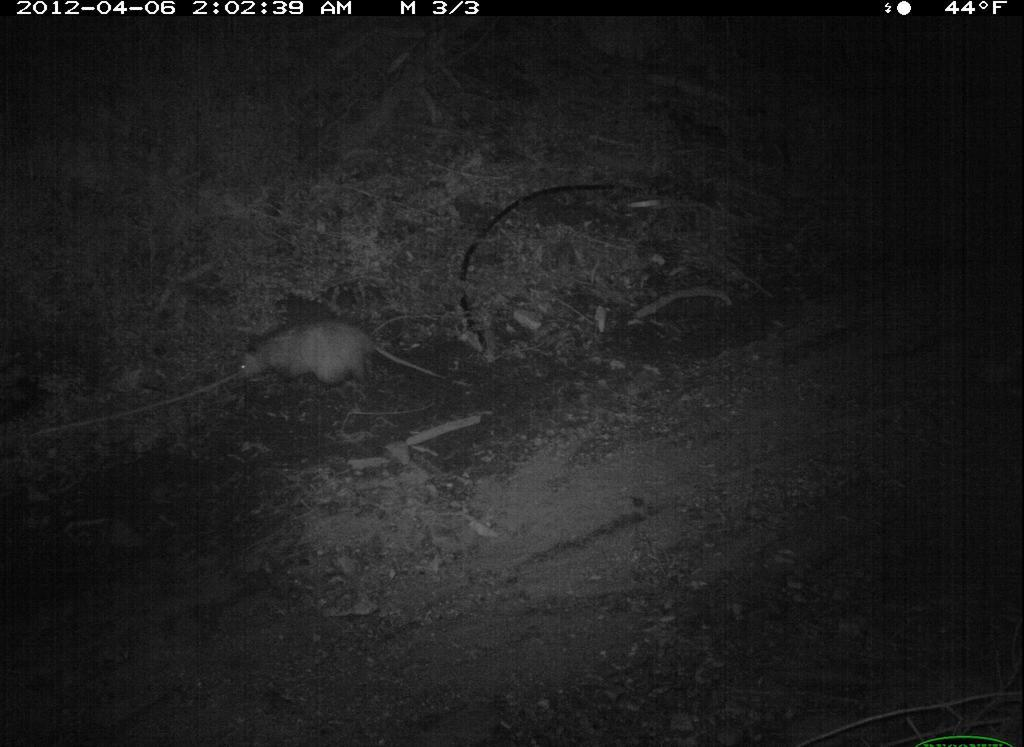opossum: (225, 310, 433, 393)
